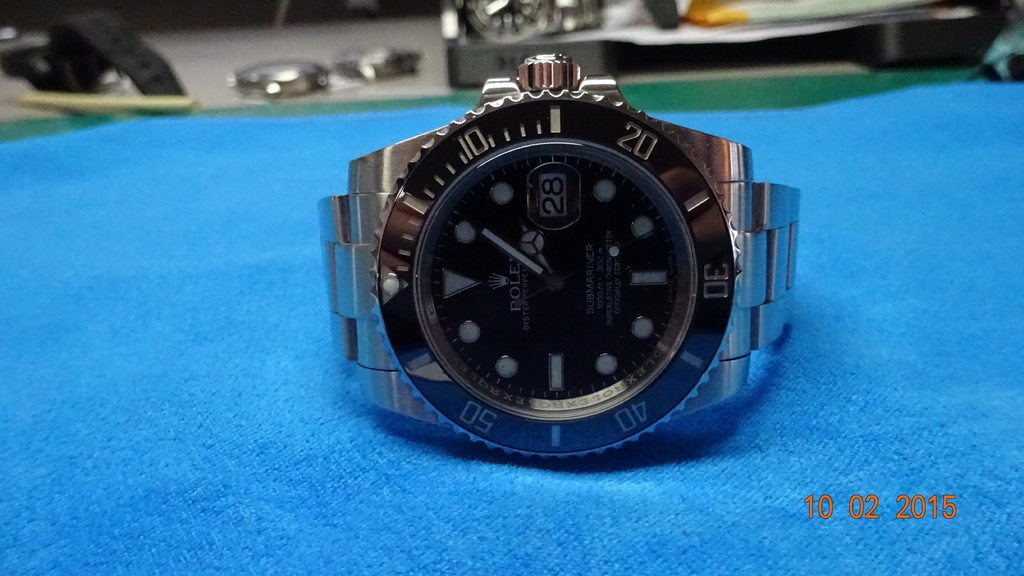watch: (305, 65, 803, 472)
